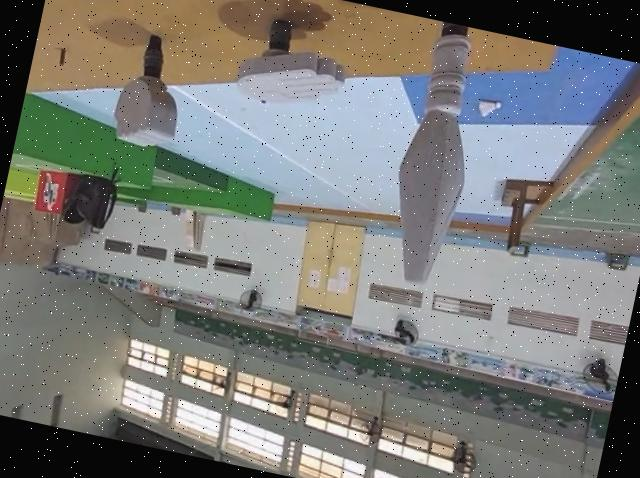Fist: (107, 30, 194, 150)
Hand: (230, 5, 354, 118)
Sph: (377, 19, 503, 297)
